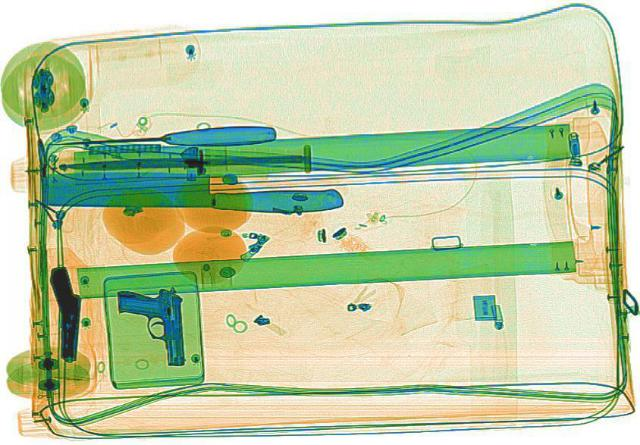Gun: (116, 284, 186, 366), (46, 263, 85, 359)
Knife: (39, 169, 343, 213), (48, 121, 274, 154), (61, 152, 301, 170)
